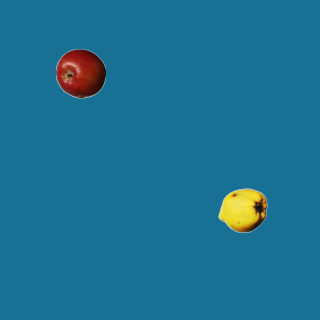Apple Braeburn: (55, 48, 105, 98)
Quince: (217, 185, 267, 235)
